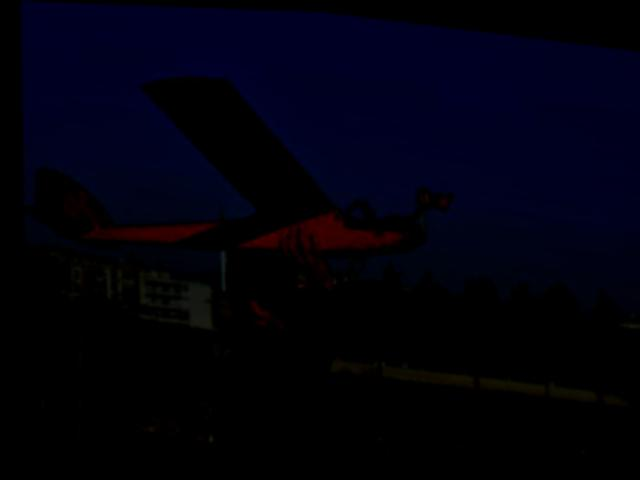iha: (4, 49, 463, 294)
